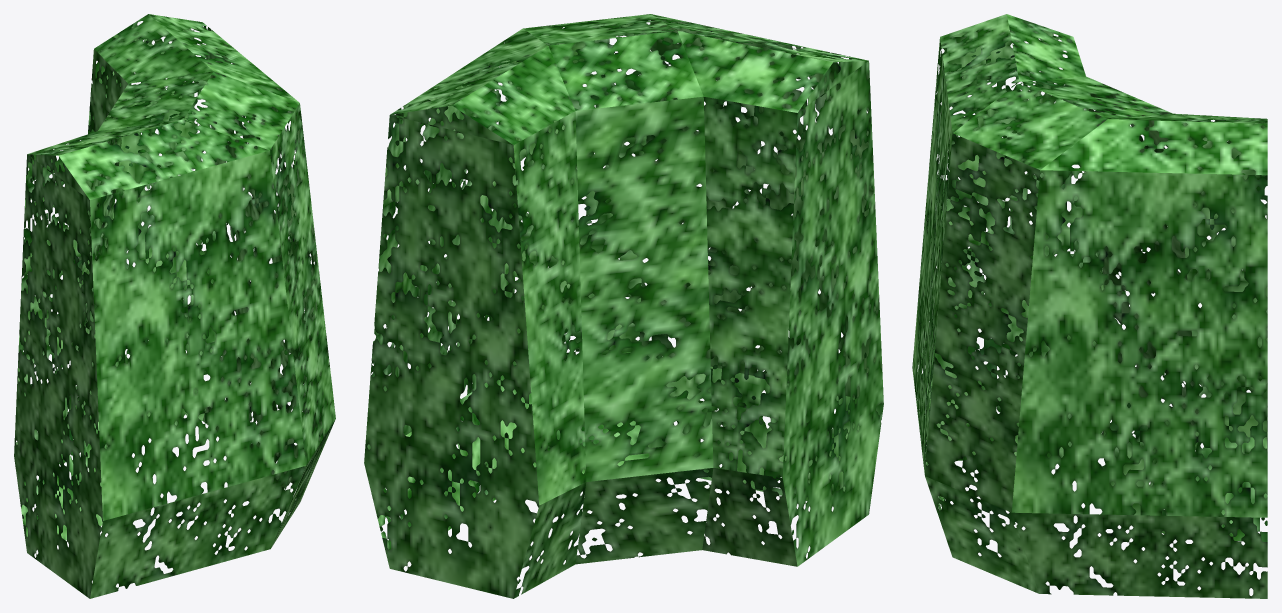
The model's file is bush_long_round_corner_spring.fbx.
3 views of the same model, side by side, from view 1: azimuth 30°, elevation 25°; view 2: azimuth 150°, elevation 25°; view 3: azimuth 270°, elevation 25° (orthographic). The views are drawn at different scales.
Parts seen in each view (by area): view 1: bush_long_round_corner_spring; view 2: bush_long_round_corner_spring; view 3: bush_long_round_corner_spring.
Boxes of the visible parts, box(x1,y1,x2,y2) form: bush_long_round_corner_spring: box(14, 14, 335, 598); bush_long_round_corner_spring: box(364, 14, 883, 598); bush_long_round_corner_spring: box(912, 14, 1267, 598).
Bounding box in the file's own units: 135 × 188 × 135.
Materials: 1 (1 with a texture image).
